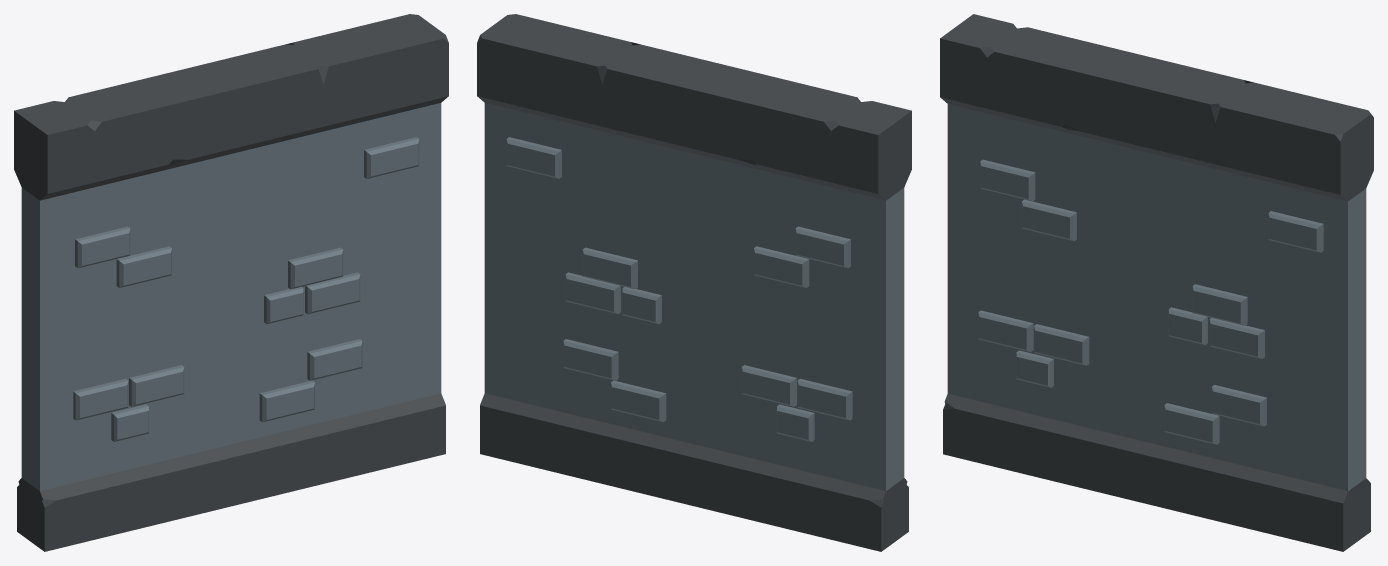
The model's file is wall_1_1.obj.
3 renders of one model, left to right at view 1: azimuth 30°, elevation 25°; view 2: azimuth 150°, elevation 25°; view 3: azimuth 330°, elevation 25°, orthographic.
Visible parts, largest first — view 1: wall_1_1; view 2: wall_1_1; view 3: wall_1_1.
Part boxes in pixels (x1=…): wall_1_1: x1=14, y1=14, x2=448, y2=551; wall_1_1: x1=477, y1=14, x2=911, y2=551; wall_1_1: x1=940, y1=14, x2=1373, y2=551.
Size of the model in its own units: 1.53 by 1.53 by 0.2219.
